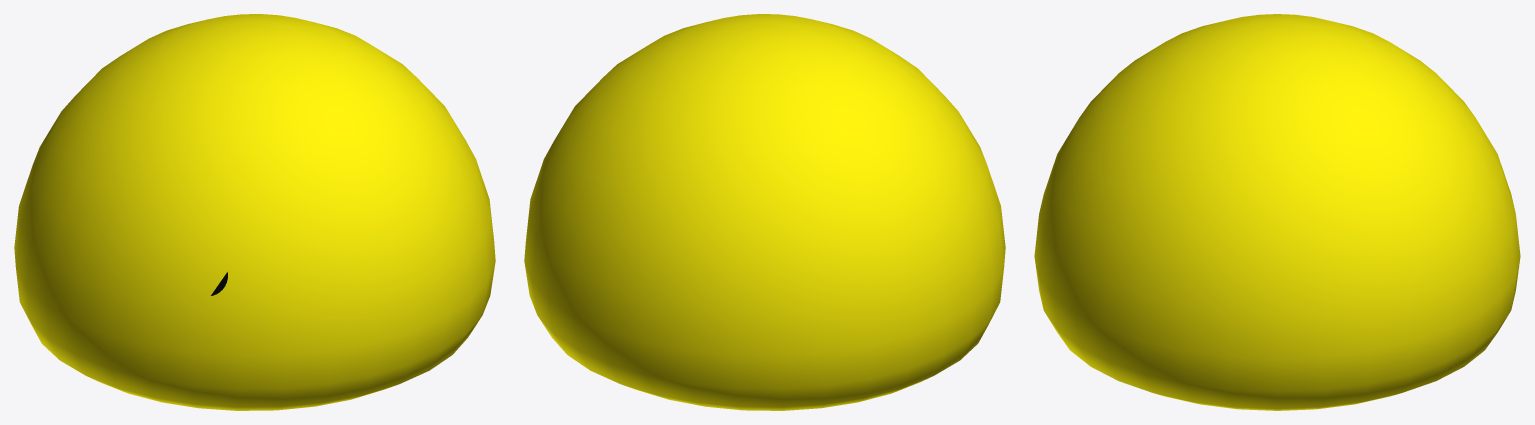
The model's file is Slime_fogo.fbx.
3 views of the same model, side by side, from view 1: azimuth 30°, elevation 25°; view 2: azimuth 150°, elevation 25°; view 3: azimuth 270°, elevation 25° (orthographic).
Visible parts, largest first — view 1: camada amarela; view 2: camada amarela; view 3: camada amarela.
Part boxes in pixels (x1,y1,x2,y2): camada amarela: (14, 14, 495, 410); camada amarela: (524, 14, 1005, 410); camada amarela: (1034, 14, 1520, 410).
Size of the model in its own units: 207 by 138 by 207.
